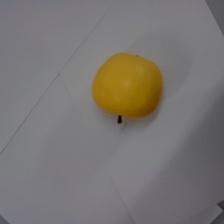yellow: (90, 50, 164, 125)
